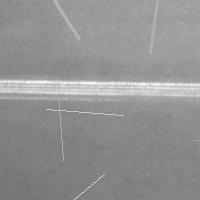scratches: (1, 78, 199, 100), (56, 169, 109, 200), (49, 0, 84, 44), (41, 104, 128, 120), (53, 88, 68, 165), (145, 0, 163, 58), (188, 134, 200, 146)
